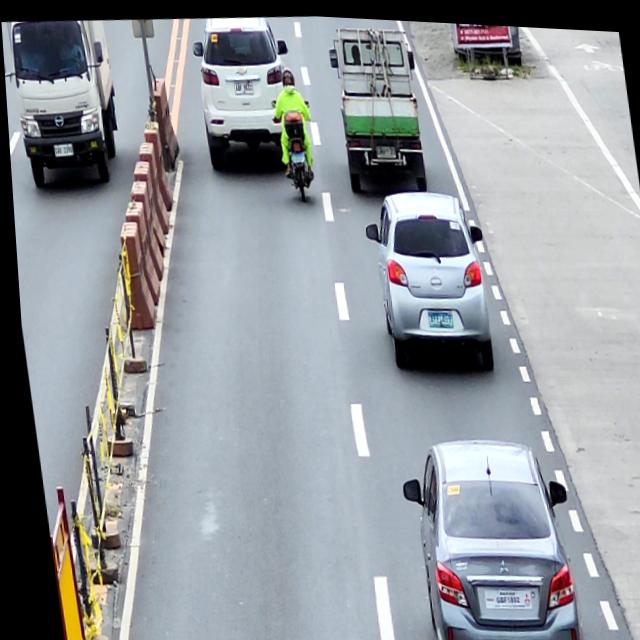Car: (357, 180, 496, 373), (187, 10, 301, 173)
License-Plate: (390, 426, 580, 640), (484, 584, 514, 604), (422, 306, 449, 325), (373, 140, 394, 155), (232, 79, 253, 94), (51, 143, 72, 157), (289, 148, 303, 159)
Motorcycle: (269, 93, 320, 201)
Truck: (1, 14, 125, 195), (326, 19, 431, 196)
